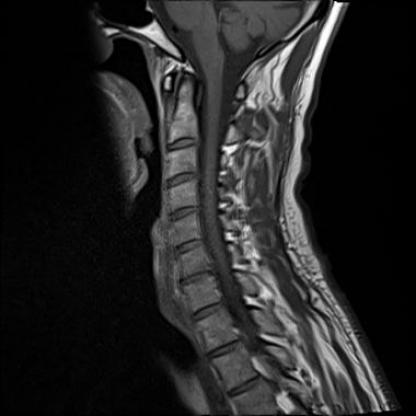Disc Bulgerotation: (166, 206, 199, 222), (177, 271, 215, 284)
